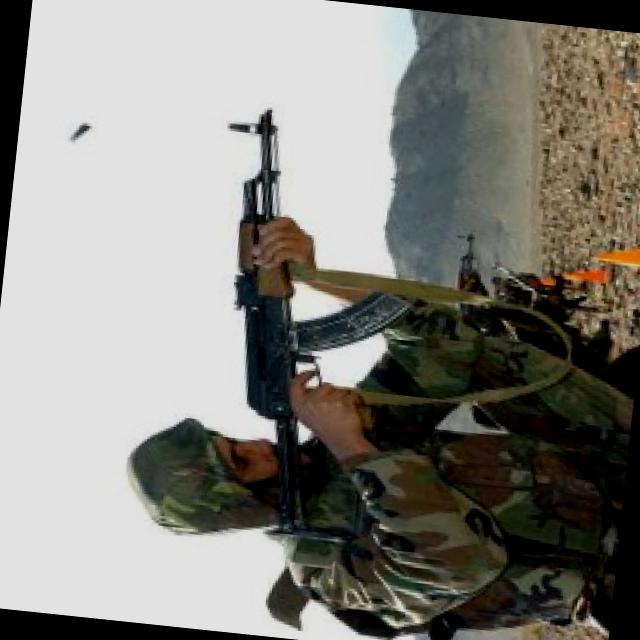long weapon: (183, 76, 414, 460)
